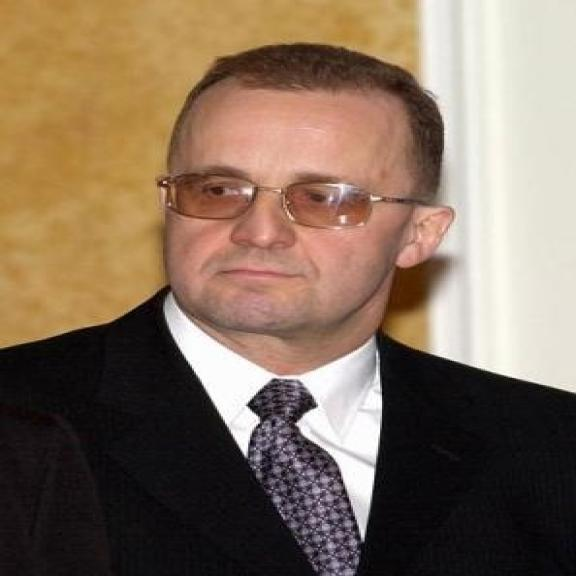face: (156, 43, 461, 336)
